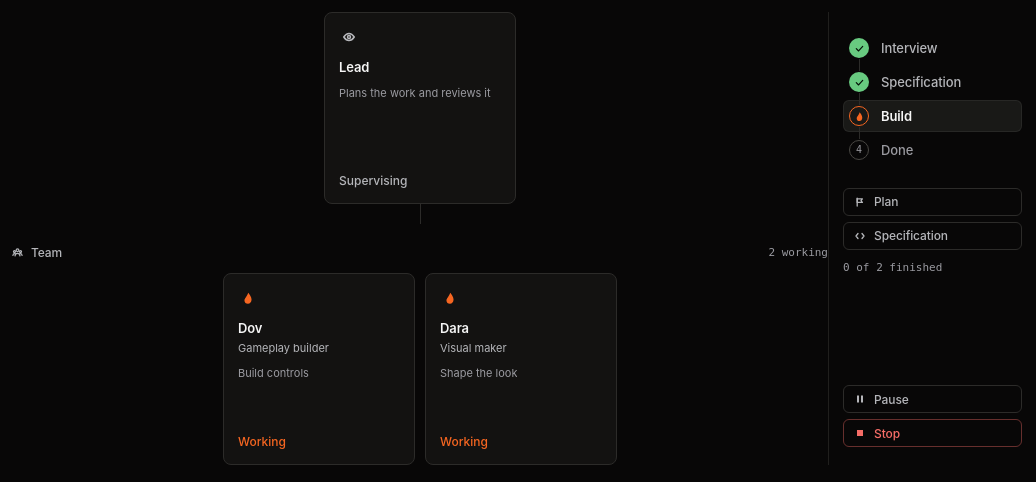
Scenario: DevTeamPane › tells you a headless member has reported nothing rather than showing a blank
Click the button with aria-label ", Shape the look,".
click(521, 369)  # box [425, 273, 617, 465]
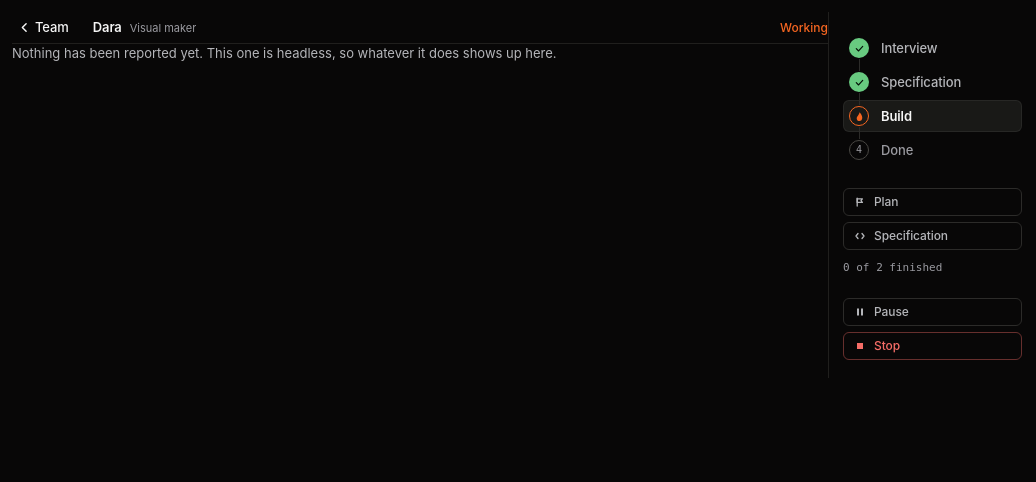
Expected: the text "headless, so whatever it does shows up here" is shown, [12, 45, 557, 61]
